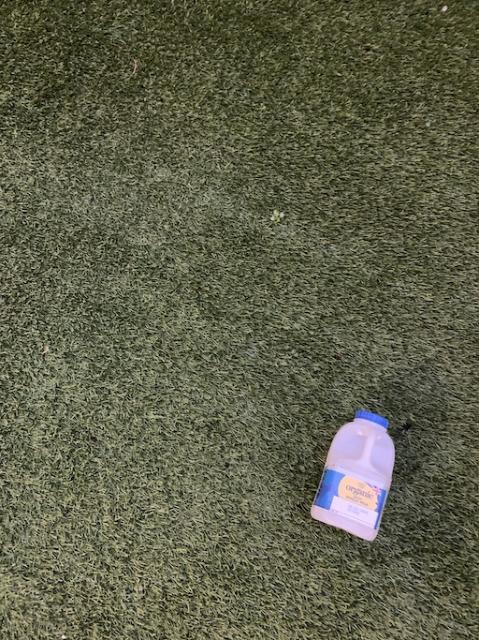plastic: (310, 409, 394, 539)
